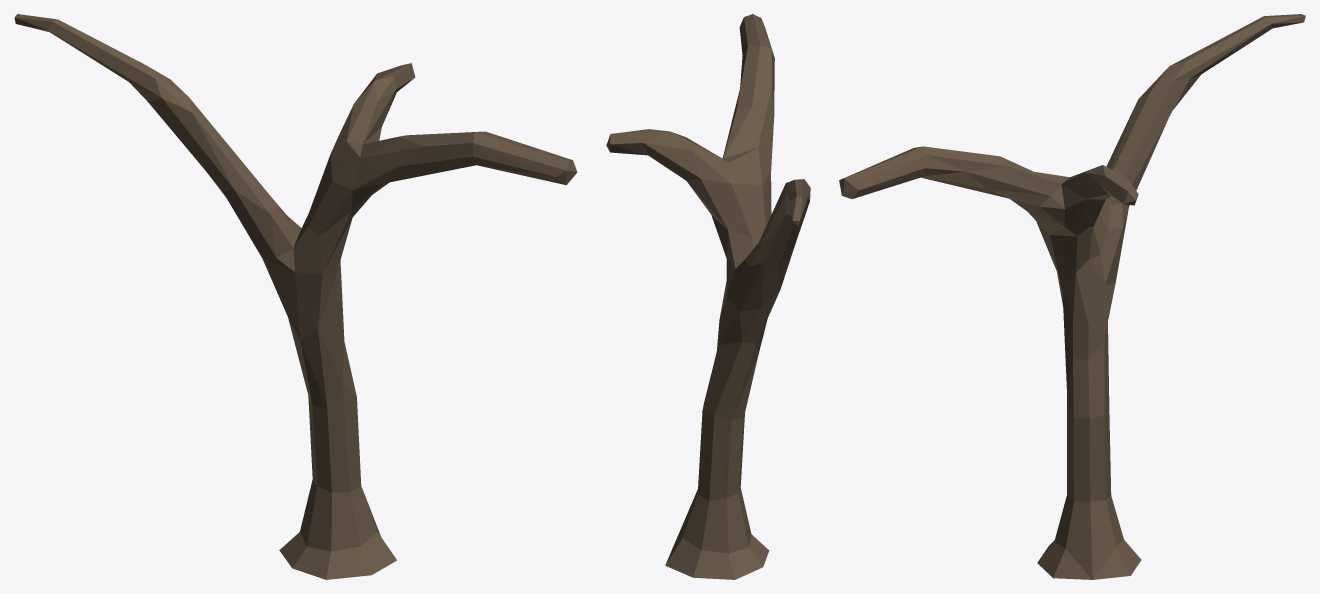
The model's file is Tree 1.fbx.
3 views of the same model, side by side, from view 1: azimuth 30°, elevation 25°; view 2: azimuth 150°, elevation 25°; view 3: azimuth 270°, elevation 25° (orthographic). The views are drawn at different scales.
Visible parts, largest first — view 1: Plane; view 2: Plane; view 3: Plane.
Part boxes in pixels (x1,y1,x2,y2): Plane: (14, 14, 577, 579); Plane: (606, 14, 810, 579); Plane: (839, 14, 1305, 579).
Bounding box in the file's own units: 2720 × 4267 × 3908.
